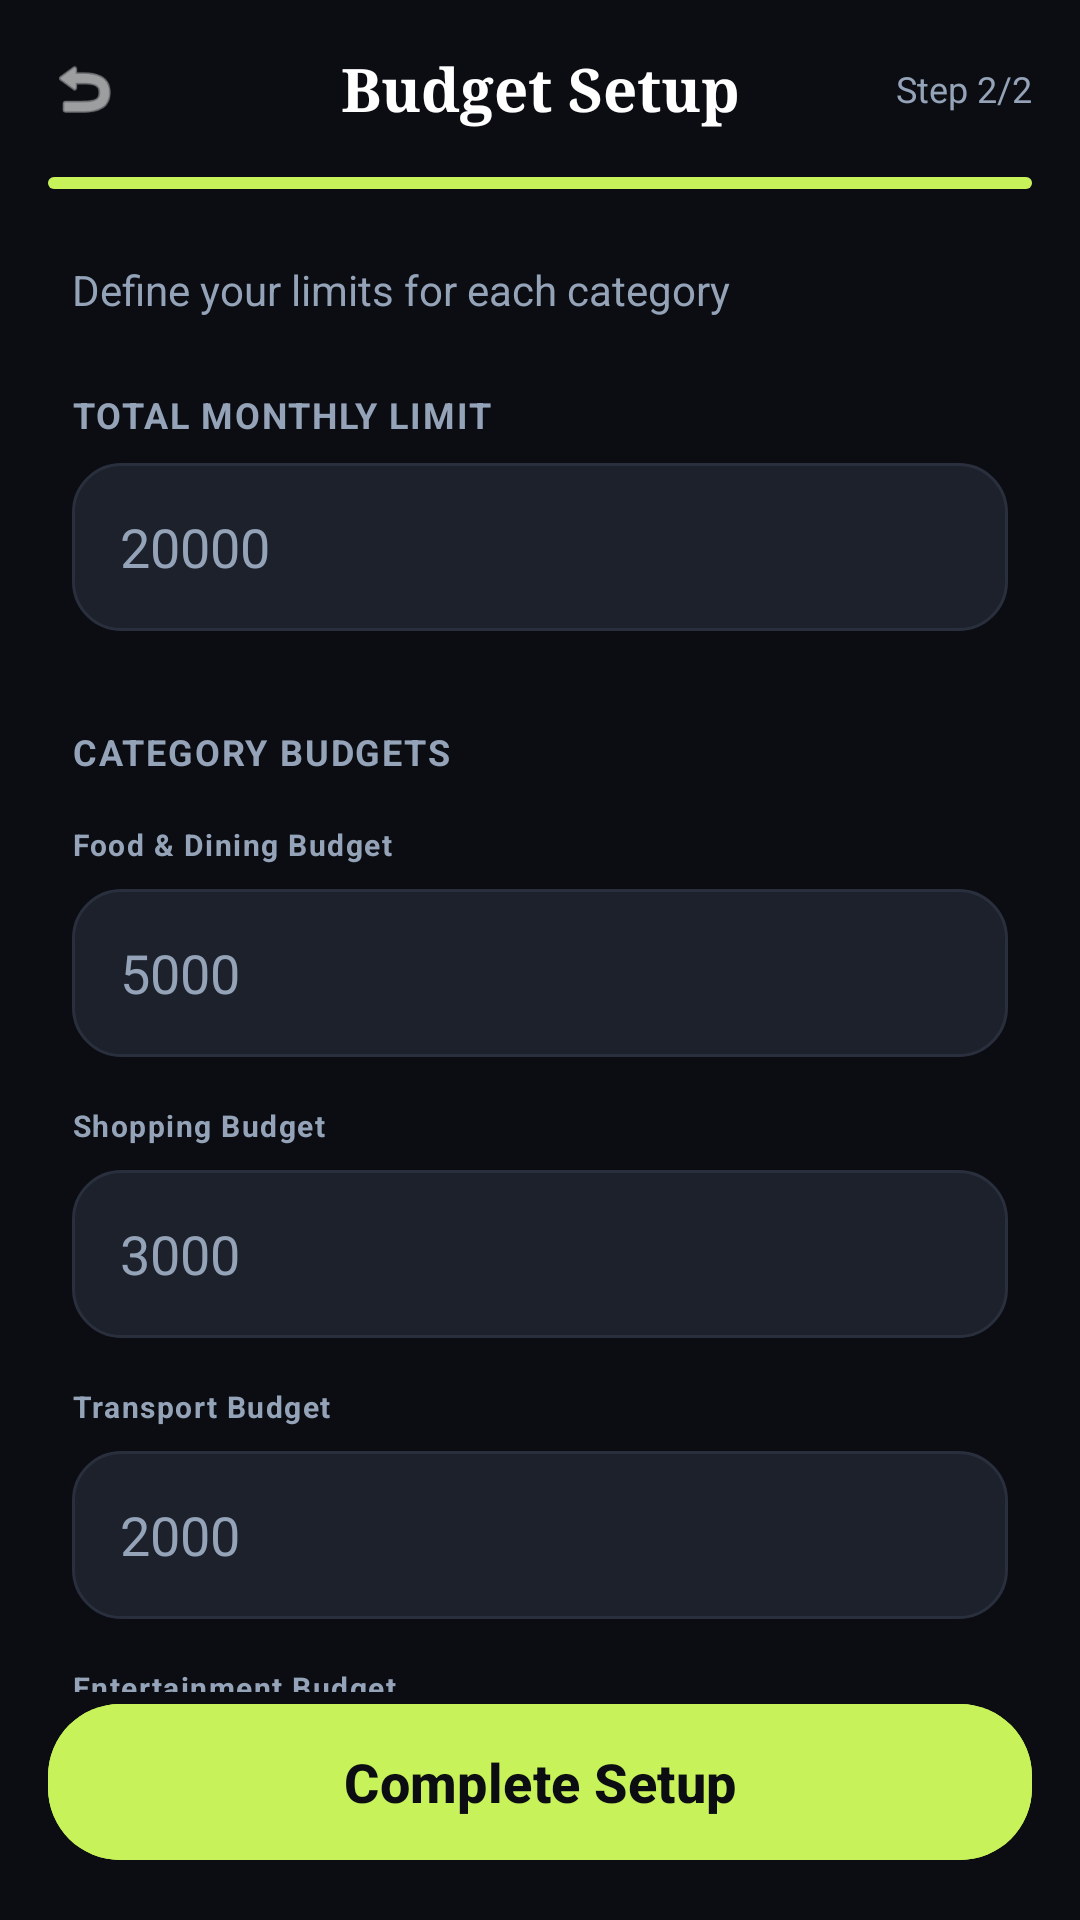

Named icons in this screenshot (1080×1920) and their centers, [x,y]:
Back: [85,89]
